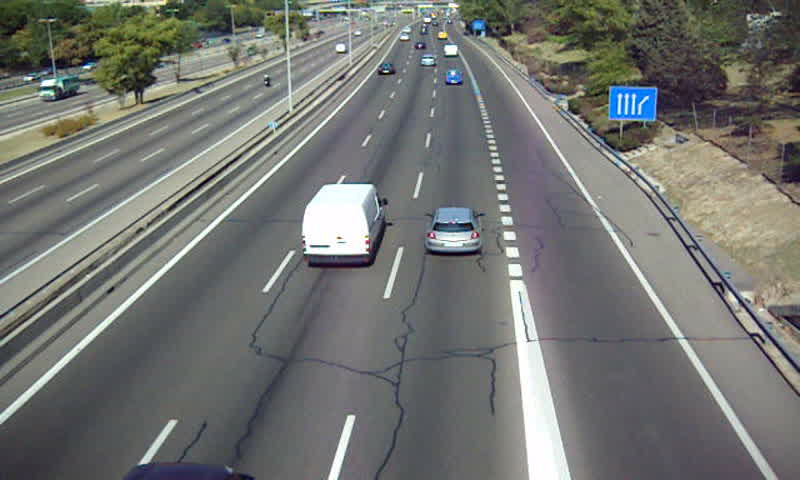car: (427, 208, 481, 253), (443, 67, 465, 87), (375, 62, 395, 76), (418, 53, 437, 67)
van: (302, 184, 385, 267)
